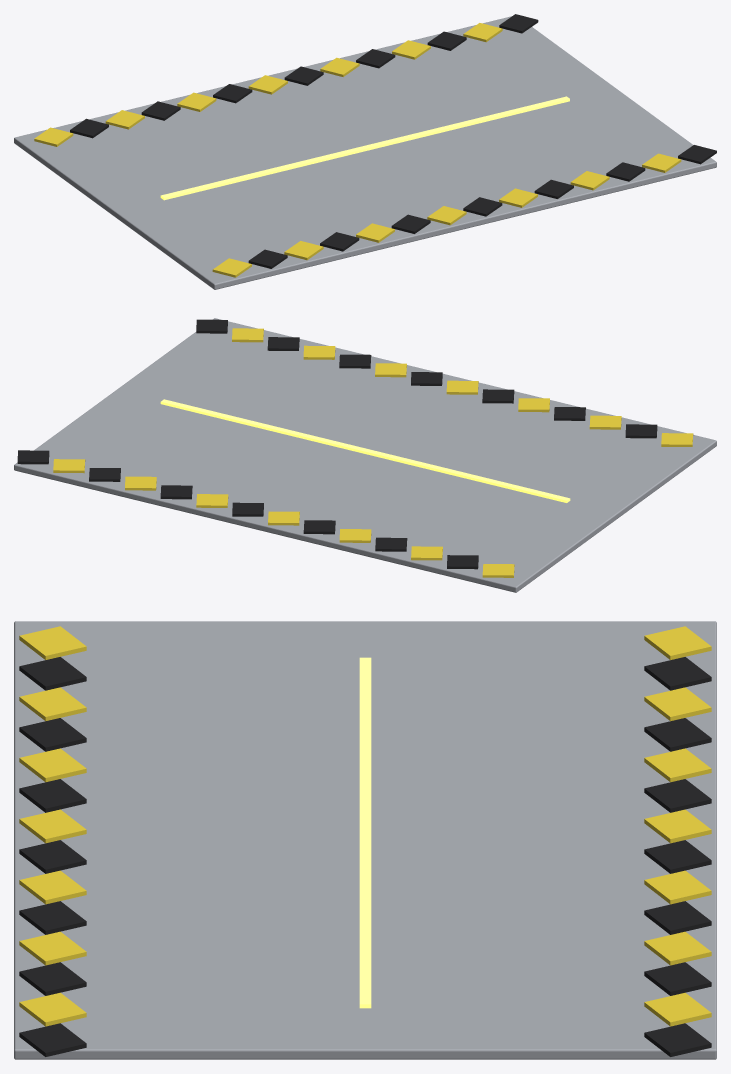
Rendered from rug_hazard_border.glb.
3 views of the same model, one above another, from view 1: azimuth 30°, elevation 25°; view 2: azimuth 150°, elevation 25°; view 3: azimuth 270°, elevation 25° (orthographic). The views are drawn at different scales.
Parts seen in each view (by area): view 1: GD_rug_hazard_border__m0, GD_rug_hazard_border__m1, GD_rug_hazard_border__m2, GD_rug_hazard_border__m3; view 2: GD_rug_hazard_border__m0, GD_rug_hazard_border__m2, GD_rug_hazard_border__m1, GD_rug_hazard_border__m3; view 3: GD_rug_hazard_border__m0, GD_rug_hazard_border__m1, GD_rug_hazard_border__m2, GD_rug_hazard_border__m3.
Boxes of the visible parts, x1=… form: GD_rug_hazard_border__m0: x1=14, y1=16, x2=716, y2=289; GD_rug_hazard_border__m1: x1=34, y1=23, x2=681, y2=277; GD_rug_hazard_border__m2: x1=70, y1=14, x2=716, y2=268; GD_rug_hazard_border__m3: x1=160, y1=96, x2=569, y2=200; GD_rug_hazard_border__m0: x1=14, y1=318, x2=716, y2=592; GD_rug_hazard_border__m2: x1=17, y1=319, x2=657, y2=569; GD_rug_hazard_border__m1: x1=53, y1=328, x2=693, y2=577; GD_rug_hazard_border__m3: x1=160, y1=399, x2=570, y2=502; GD_rug_hazard_border__m0: x1=14, y1=621, x2=716, y2=1059; GD_rug_hazard_border__m1: x1=19, y1=626, x2=711, y2=1026; GD_rug_hazard_border__m2: x1=19, y1=657, x2=711, y2=1056; GD_rug_hazard_border__m3: x1=359, y1=657, x2=371, y2=1008.
Bounding box in the file's own units: 2.65 × 0.042 × 1.8.
